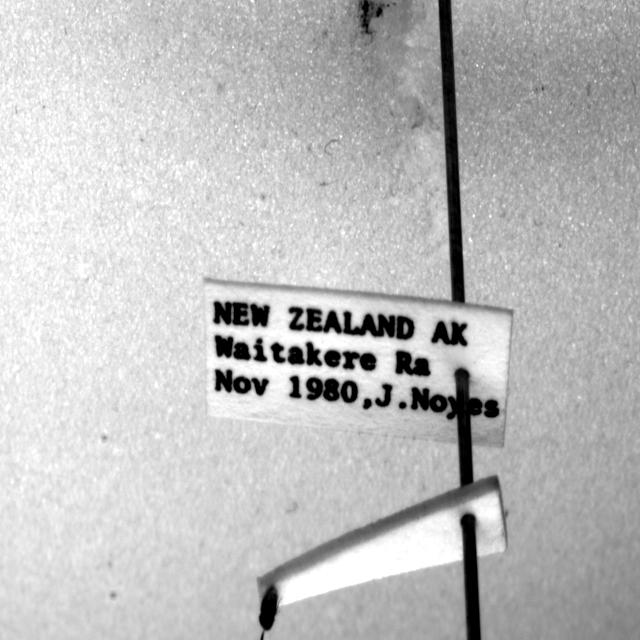typed_label: (205, 279, 512, 446)
